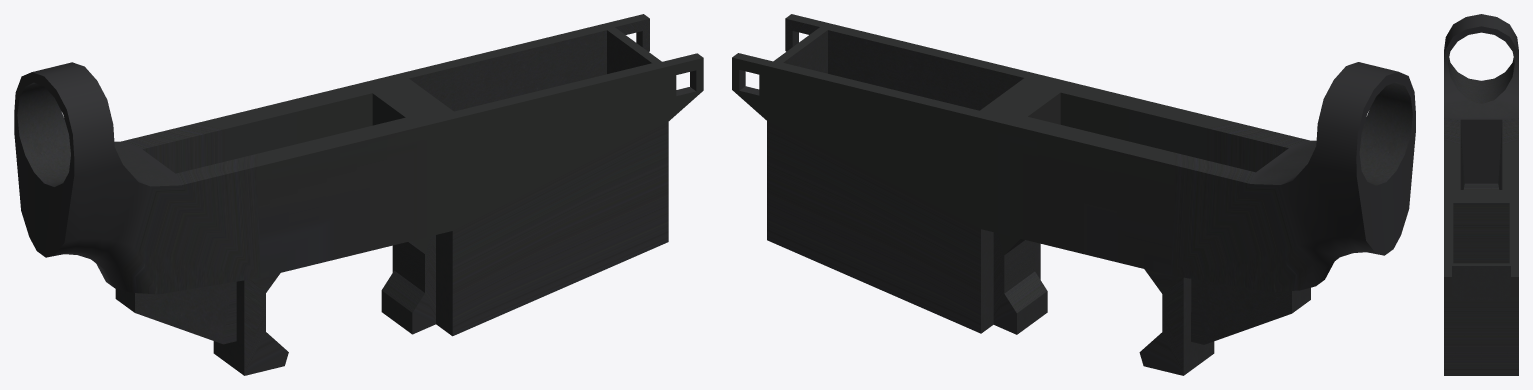
File: Lower_Receiver.dae
3 renders of one model, left to right at view 1: azimuth 30°, elevation 25°; view 2: azimuth 150°, elevation 25°; view 3: azimuth 270°, elevation 25°, orthographic. The views are drawn at different scales.
Parts seen in each view (by area): view 1: Lower_Receiver; view 2: Lower_Receiver; view 3: Lower_Receiver.
Boxes of the visible parts, x1,y1,x2,y2 form: Lower_Receiver: (14,14,703,375); Lower_Receiver: (732,14,1415,375); Lower_Receiver: (1444,14,1518,375).
Size of the model in its own units: 0.1918 by 0.0315 by 0.0972.
Materials: 1 (1 with a texture image).
